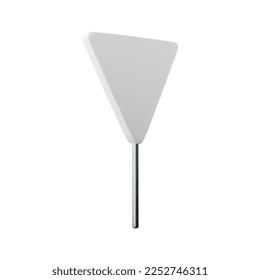Give Way: (80, 26, 202, 154)
